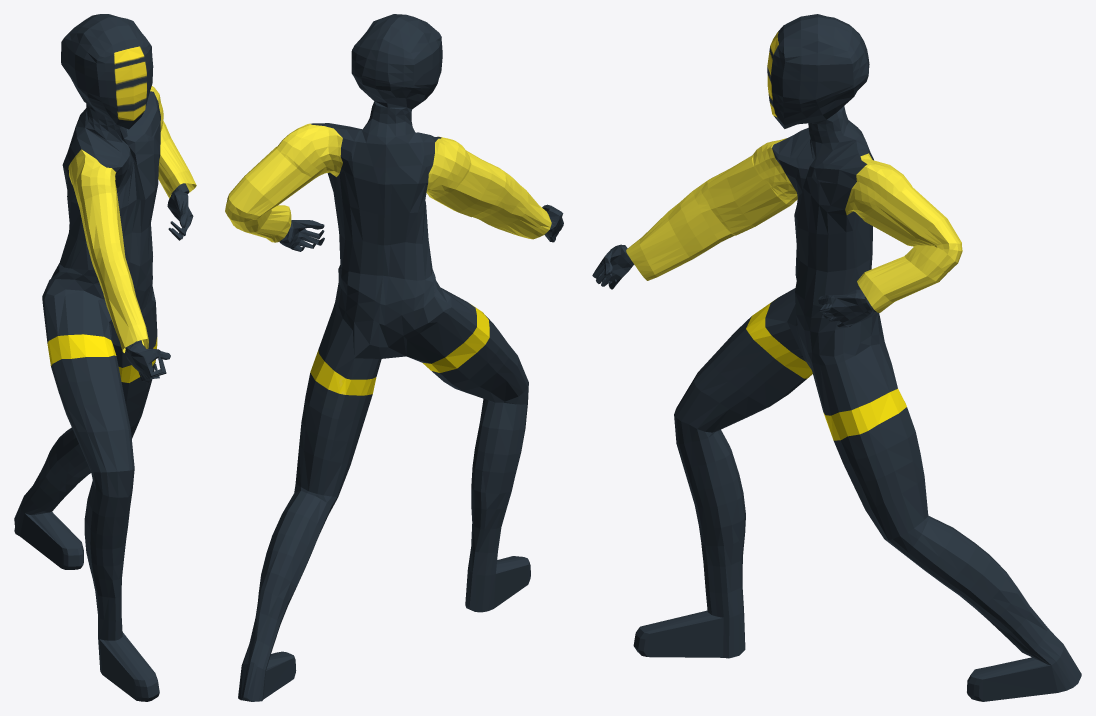
The model's file is Sentry_Stun_Recover_000015.obj.
The picture shows the model from 3 angles, left to right: view 1: azimuth 30°, elevation 25°; view 2: azimuth 150°, elevation 25°; view 3: azimuth 270°, elevation 25°; orthographic projection. The views are drawn at different scales.
Visible parts, largest first — view 1: Cube; view 2: Cube; view 3: Cube.
Boxes of the visible parts, x1,y1,x2,y2 form: Cube: (14,14,196,701); Cube: (225,14,563,701); Cube: (592,14,1081,701).
Bounding box in the file's own units: 1.16 × 3.61 × 2.43.
